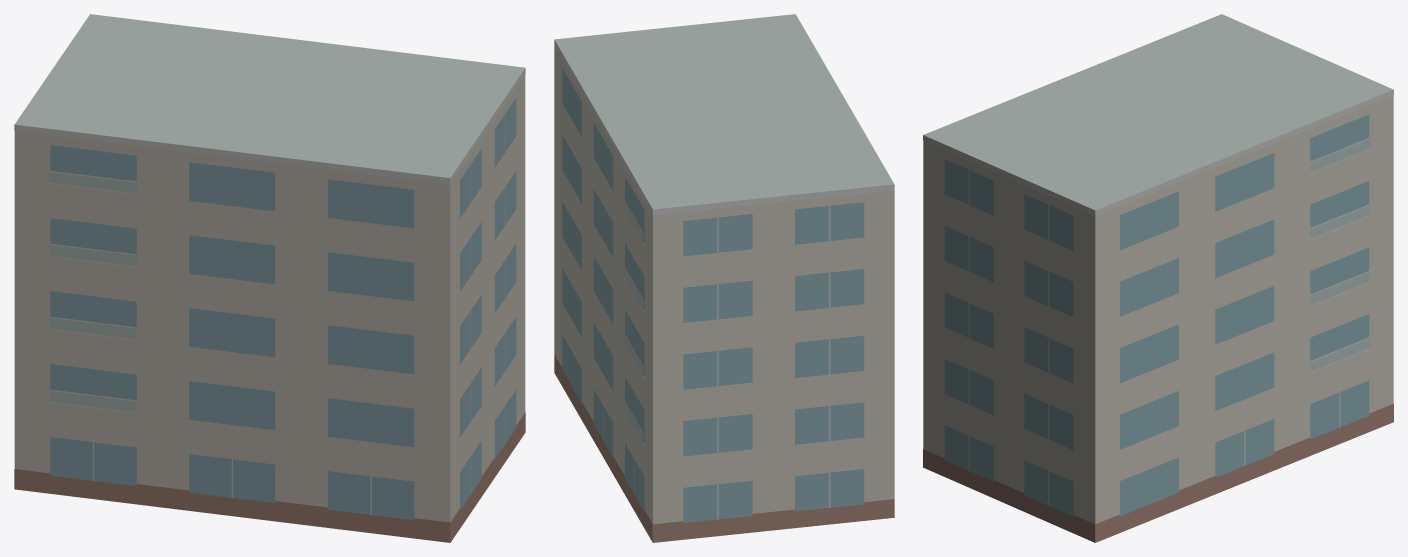
File: survey-upis-32772754.glb
3 renders of one model, left to right at view 1: azimuth 30°, elevation 25°; view 2: azimuth 150°, elevation 25°; view 3: azimuth 270°, elevation 25°, orthographic. The views are drawn at different scales.
Visible parts, largest first — view 1: survey-upis-32772754.tmp; view 2: survey-upis-32772754.tmp; view 3: survey-upis-32772754.tmp.
Part boxes in pixels (x1=…): survey-upis-32772754.tmp: x1=14, y1=14, x2=525, y2=542; survey-upis-32772754.tmp: x1=554, y1=14, x2=894, y2=542; survey-upis-32772754.tmp: x1=923, y1=14, x2=1393, y2=542.
Bounding box in the file's own units: 17.74 × 14 × 17.97.
